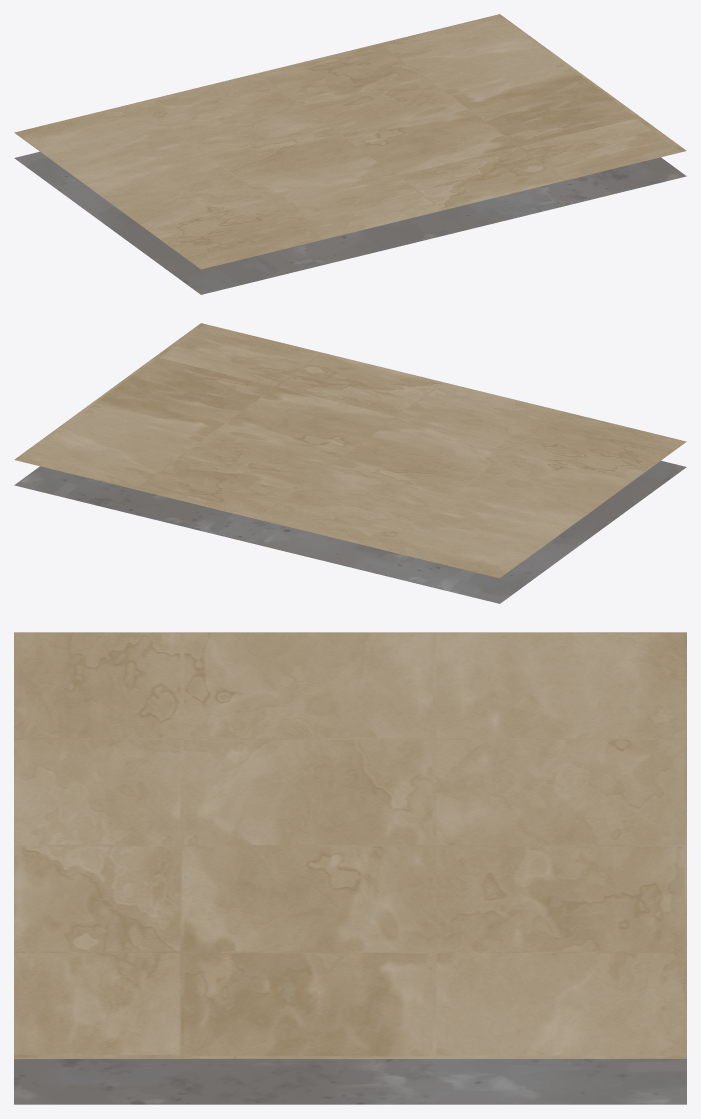
The model's file is q-downtown-floor-inset.glb.
3 renders of one model, top to bottom at view 1: azimuth 30°, elevation 25°; view 2: azimuth 150°, elevation 25°; view 3: azimuth 270°, elevation 25°, orthographic. The views are drawn at different scales.
Parts seen in each view (by area): view 1: Floor_Inset; view 2: Floor_Inset; view 3: Floor_Inset.
Boxes of the visible parts, left/top/right/bottom form: Floor_Inset: left=14, top=14, right=686, bottom=294; Floor_Inset: left=14, top=323, right=686, bottom=603; Floor_Inset: left=14, top=632, right=686, bottom=1104.
Bounding box in the file's own units: 2 × 0.1 × 1.33.
2 materials, 2 textured.
